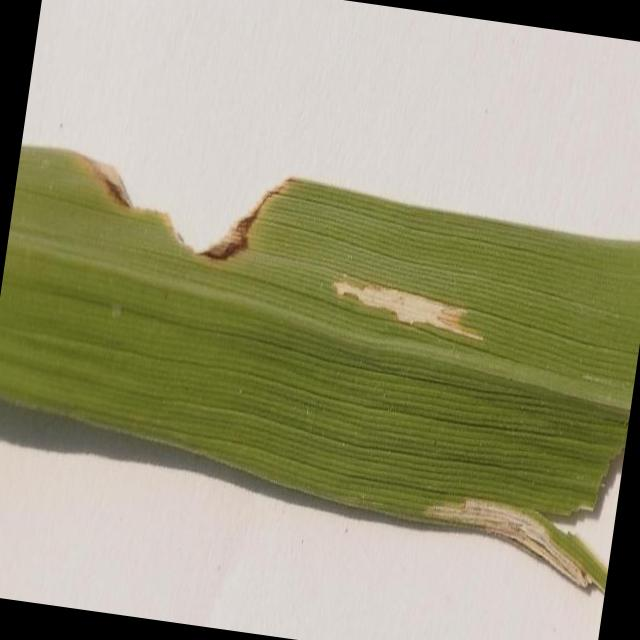Rice_Bacterial_Blight: (279, 216, 572, 443)
